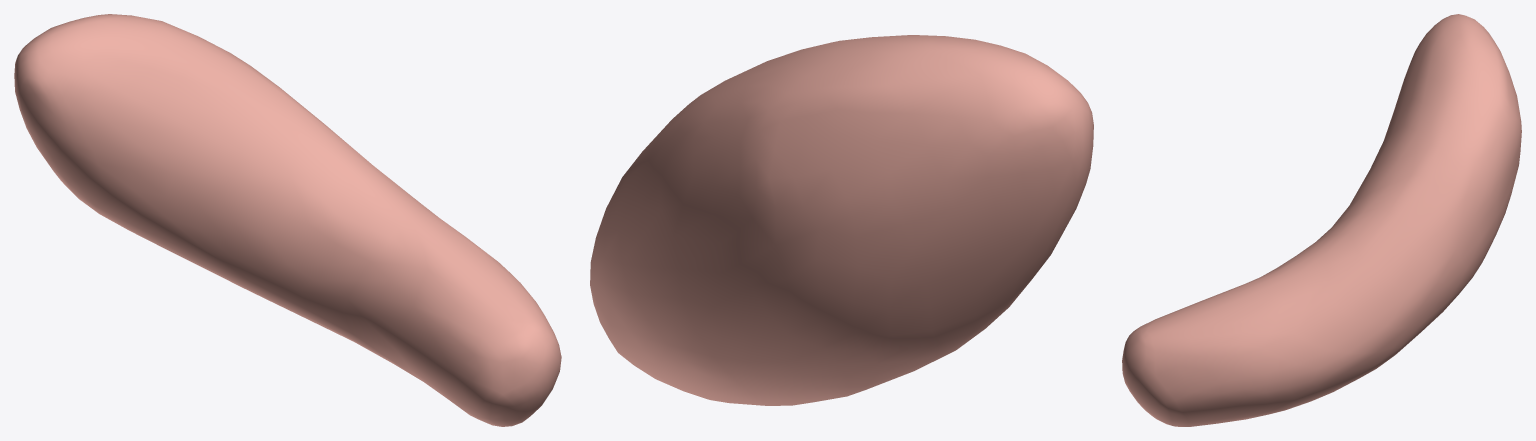
The model's file is pv-left-superior.glb.
The picture shows the model from 3 angles, left to right: view 1: azimuth 30°, elevation 25°; view 2: azimuth 150°, elevation 25°; view 3: azimuth 270°, elevation 25°; orthographic projection. The views are drawn at different scales.
Visible parts, largest first — view 1: structure; view 2: structure; view 3: structure.
Part boxes in pixels (x1=…): structure: x1=14, y1=14, x2=561, y2=426; structure: x1=590, y1=35, x2=1093, y2=405; structure: x1=1122, y1=14, x2=1521, y2=426.
Bounding box in the file's own units: 20.35 × 17.44 × 21.74.
